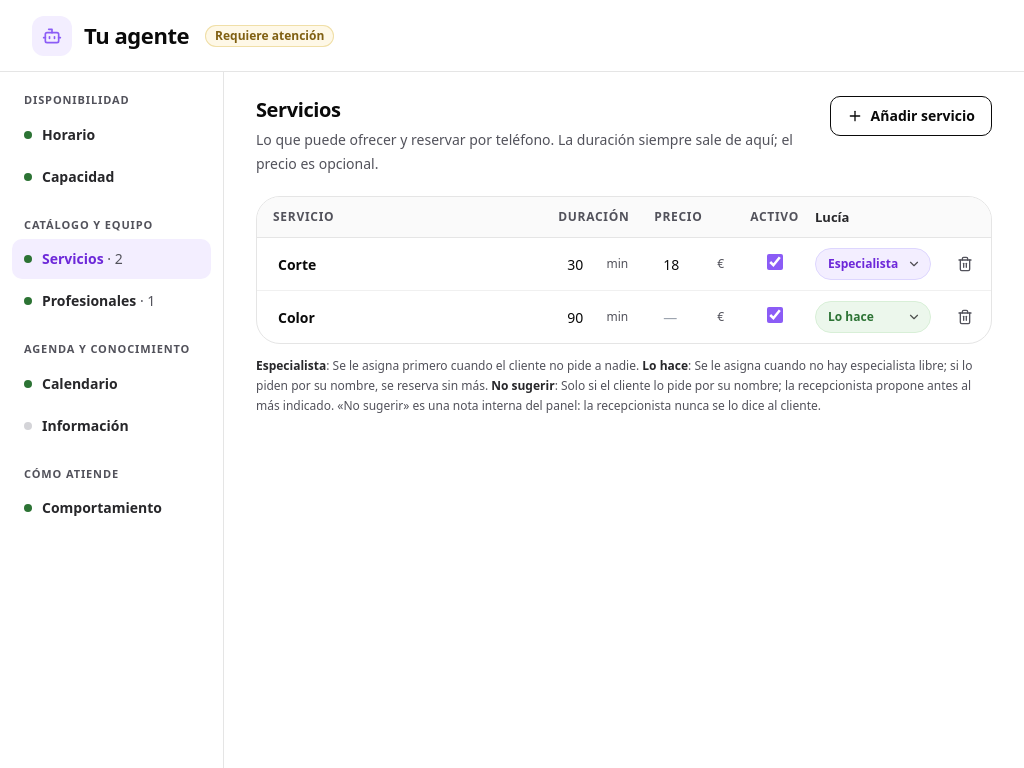
Test: AgenteEscritorio › edita servicios y niveles en la tabla y lo guarda todo de una vez desde la barra
The width and height of the screenshot is (1024, 768).
Replace the text in the field named "Precio de Corte en euros" with "20". click: (694, 264)
box: 654,246 -> 734,282
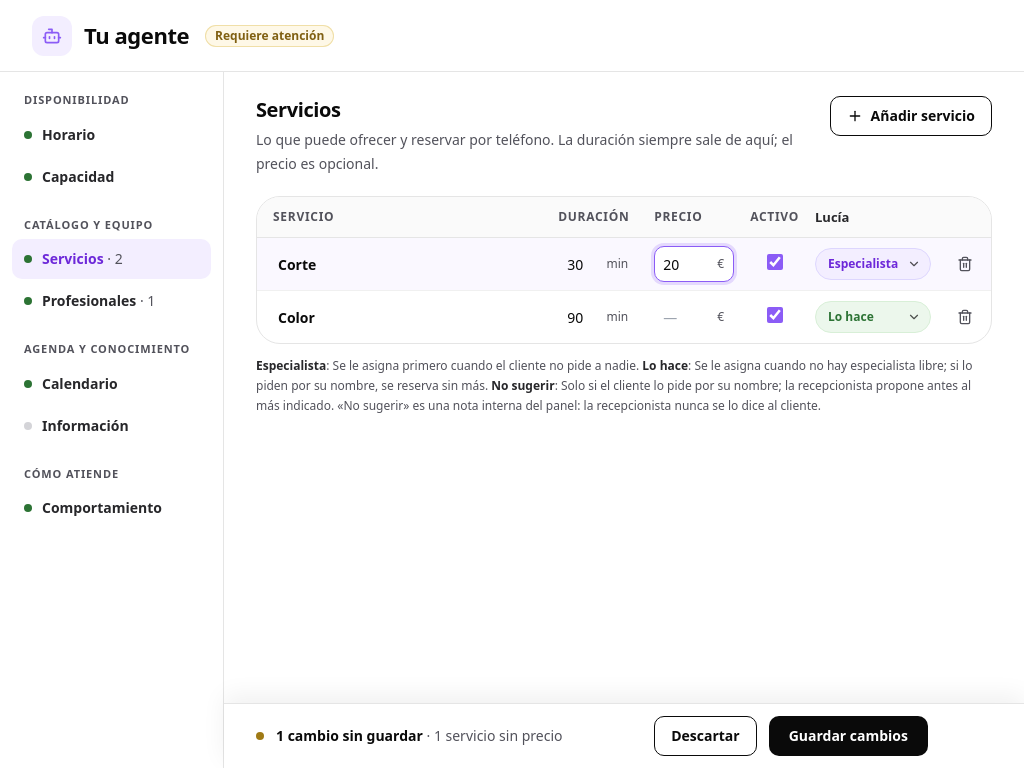
Select "No sugerir" in the dropdown named "Lucía en Color". click: (873, 317)
box: 815,301 -> 931,333
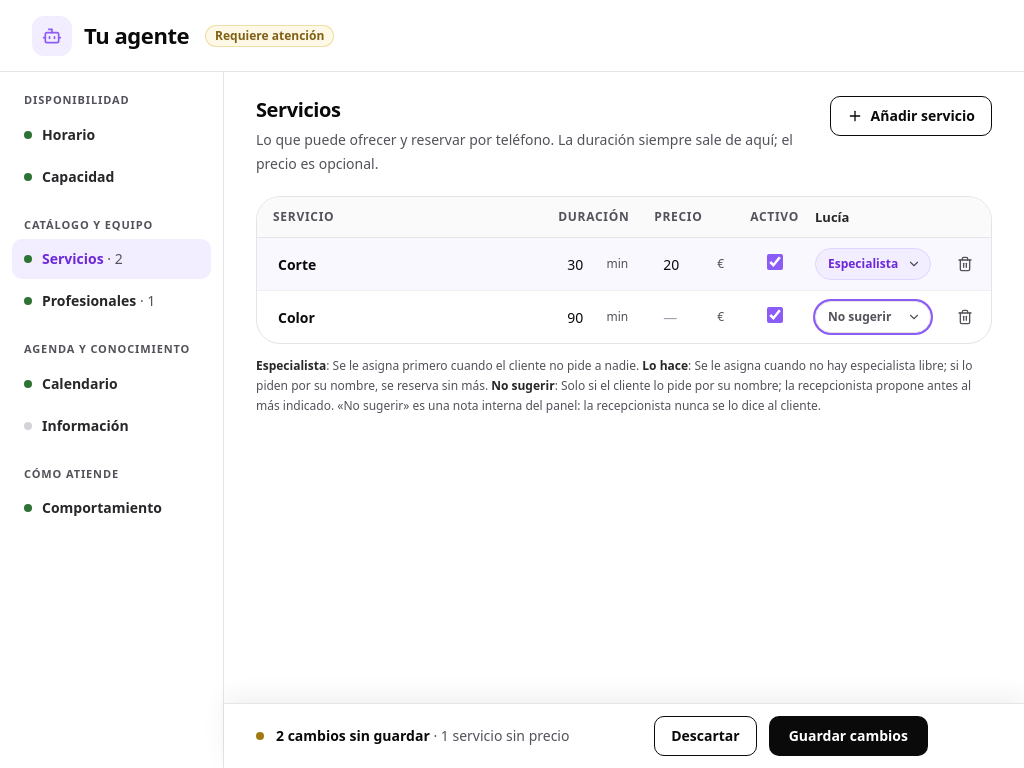
Now the text "· 1 servicio sin precio" is shown, box 430,726 -> 570,745
Now the text "2 cambios sin guardar" is shown, box 276,726 -> 430,745
Click the button "Guardar cambios". click: click(848, 736)
box: 769,716 -> 928,756
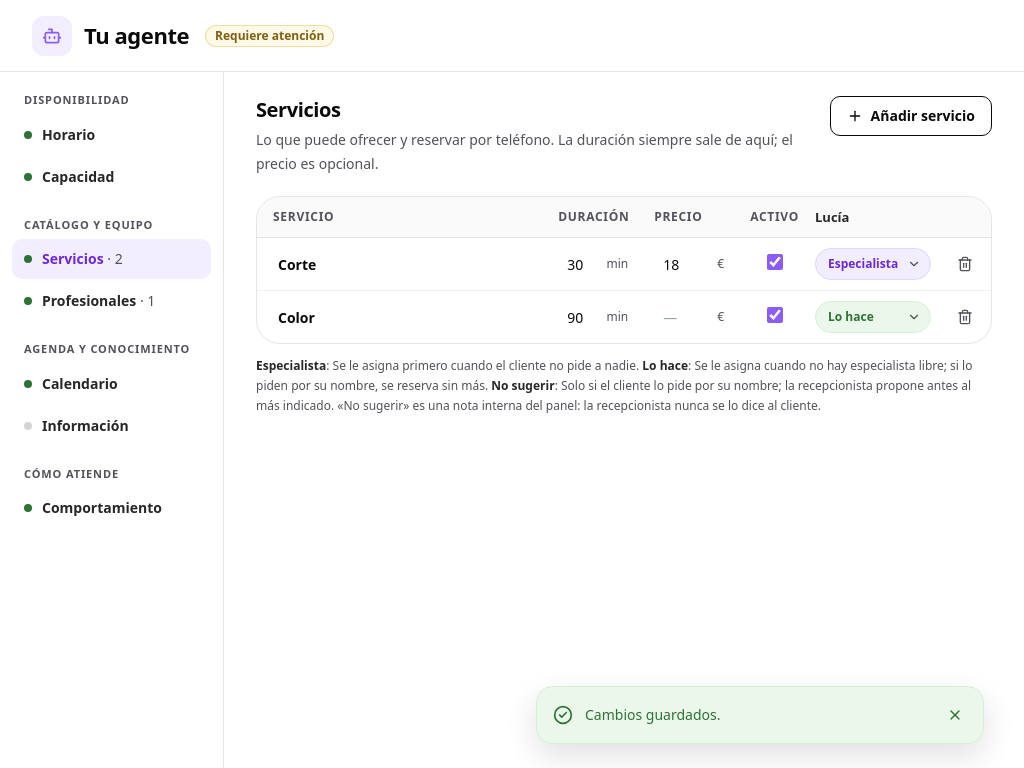
Now the text "Cambios guardados." is shown, box 585,705 -> 720,724
